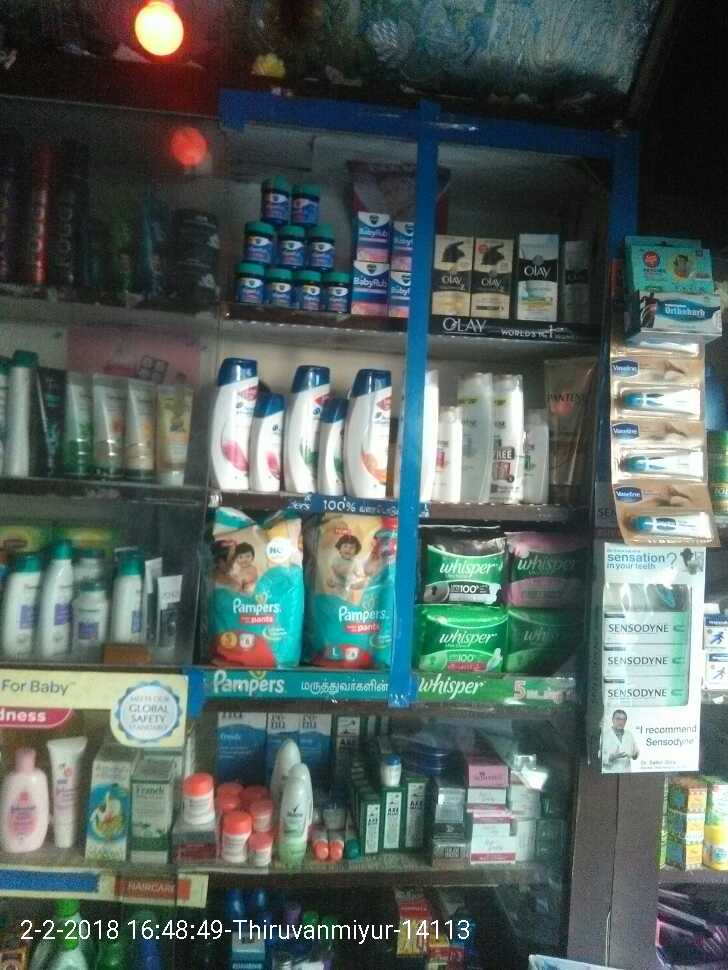vicks: (233, 168, 410, 317)
